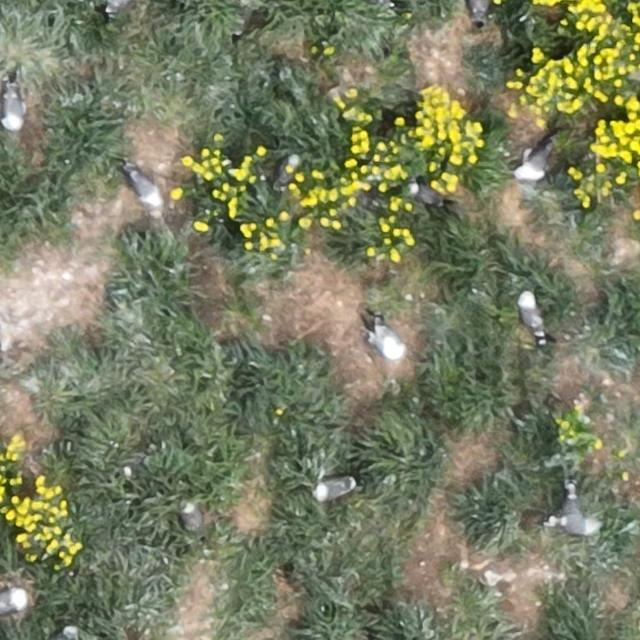umineko: (365, 312, 407, 357), (518, 140, 559, 179), (562, 498, 600, 536), (128, 171, 160, 207), (521, 296, 542, 336), (3, 92, 24, 130), (317, 478, 351, 498), (409, 184, 439, 206), (0, 587, 26, 612), (181, 504, 199, 532), (469, 1, 489, 22), (108, 0, 132, 12)
